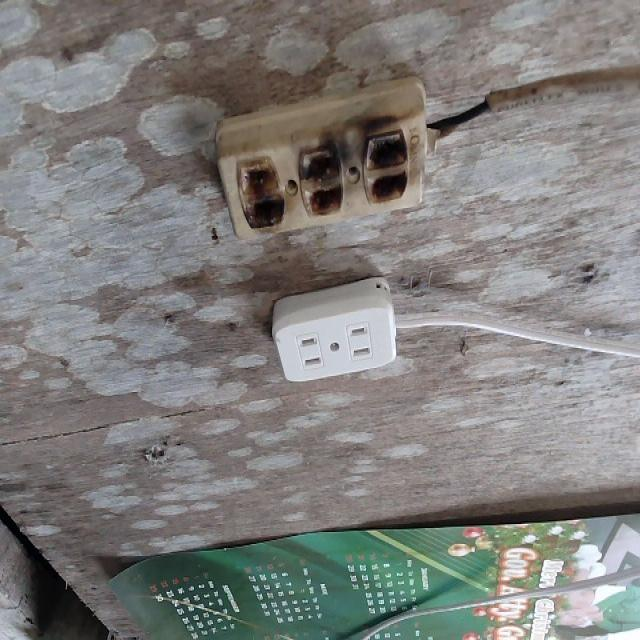-: (233, 120, 405, 232)
